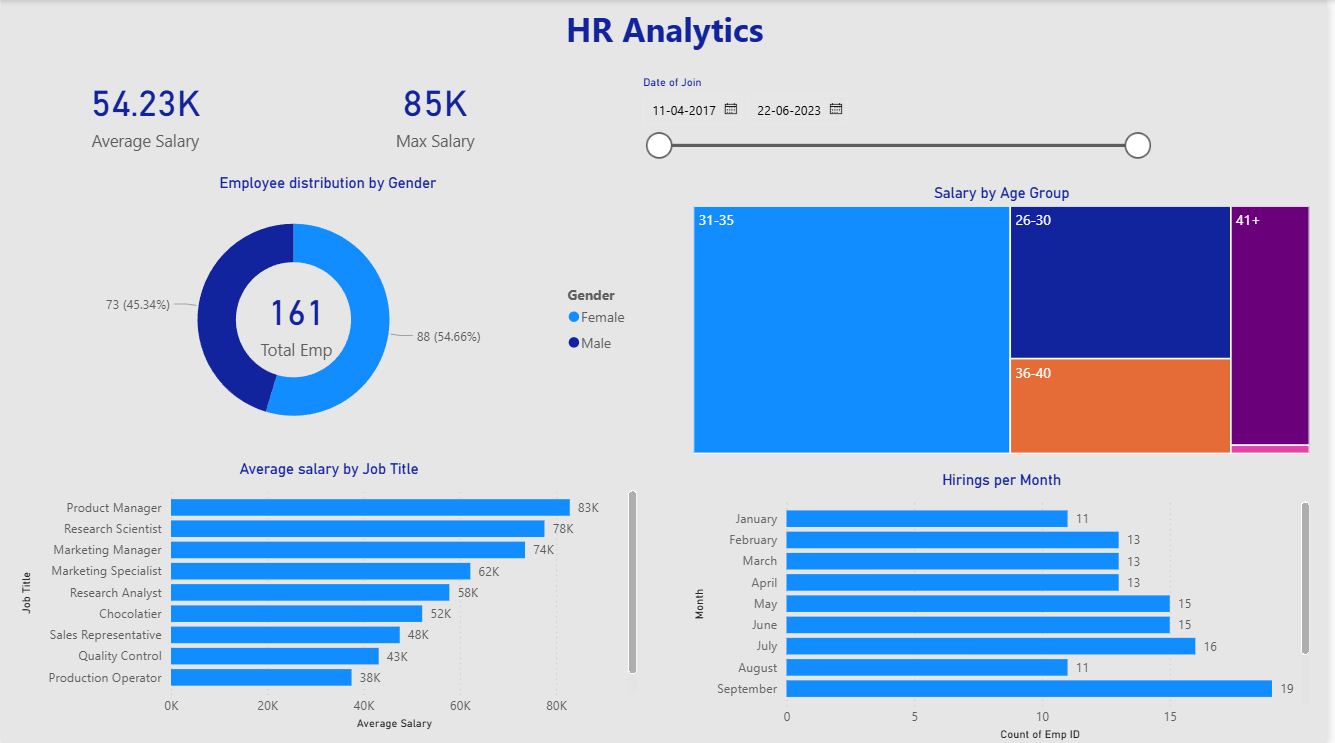

What the dashboard file says about the page in this screenshot:
{"tool":"powerbi","page":{"name":"Page 1","canvas":[1280,720],"ordinal":0},"visuals":[{"type":"card","fields":{"Values":["data.Average Salary"]},"box":[13.3,57.9,252.1,100.1],"z":0},{"type":"card","fields":{"Values":["data.Max Salary"]},"box":[293.2,57.9,252.1,100.1],"z":1000},{"type":"donutChart","title":"Employee distribution by Gender","fields":{"Category":["data.Gender"],"Y":["data.Total Emp"]},"box":[13.3,167.7,604.4,265.4],"z":2000},{"type":"treemap","title":"Salary by Age Group","fields":{"Values":["Sum(data.Salary)"],"Group":["data.Age Group"]},"box":[663.5,177.3,604.4,265.4],"z":3000},{"type":"clusteredBarChart","title":"Average salary by Job Title","fields":{"Y":["data.Average Salary"],"Category":["data.Job Title"]},"box":[14.5,444,604.4,265.4],"z":4000},{"type":"clusteredBarChart","title":"Hirings per Month","fields":{"Category":["data.Date of Join.Variation.Date Hierarchy.Month"],"Y":["CountNonNull(data.Emp ID)"]},"box":[663.5,454.8,604.4,265.4],"z":5000},{"type":"textbox","box":[1.2,1.2,1278.8,53.1],"z":6000},{"type":"card","fields":{"Values":["data.Total Emp"]},"box":[208.7,244.9,153.2,130.3],"z":7000},{"type":"slicer","fields":{"Values":["data.Date of Join"]},"box":[606.8,67.6,511.5,100.1],"z":8000}]}

Visuals, with their boxes in screenshot pixels (x1, y1, x2, y2), scaled from the page's 1280x720 canvas onto the 1335x743 screenshot:
card - data.Average Salary: select_region(14, 60, 277, 163)
card - data.Max Salary: select_region(306, 60, 569, 163)
"Employee distribution by Gender" donutChart: select_region(14, 173, 644, 447)
"Salary by Age Group" treemap: select_region(692, 183, 1322, 457)
"Average salary by Job Title" clusteredBarChart: select_region(15, 458, 645, 732)
"Hirings per Month" clusteredBarChart: select_region(692, 469, 1322, 742)
textbox: select_region(1, 1, 1334, 56)
card - data.Total Emp: select_region(218, 253, 377, 387)
slicer - data.Date of Join: select_region(633, 70, 1166, 173)
